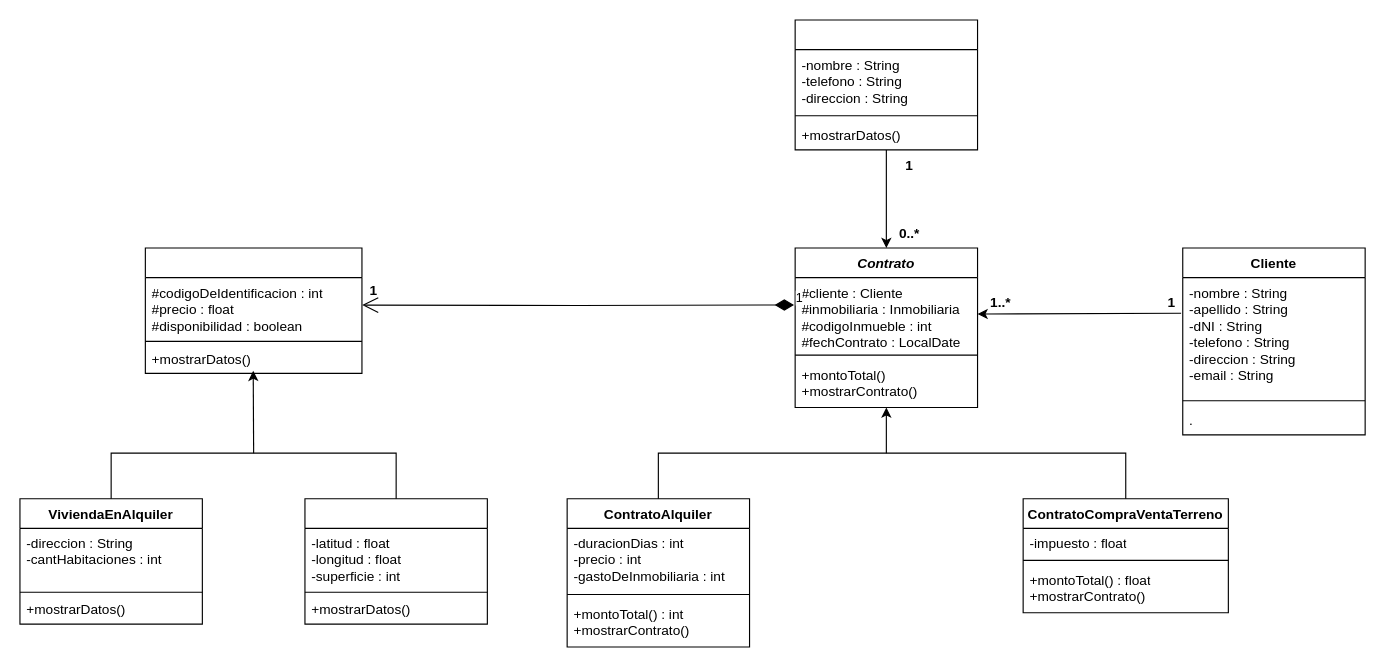
This 1385x670 diagram has some shape labels left out. The box of each missing label's shape, as (x1, y1, x2, y2) in pixels:
Inmobiliaria: (794, 19, 978, 150)
Inmueble: (144, 247, 362, 373)
Terreno: (304, 498, 487, 624)
